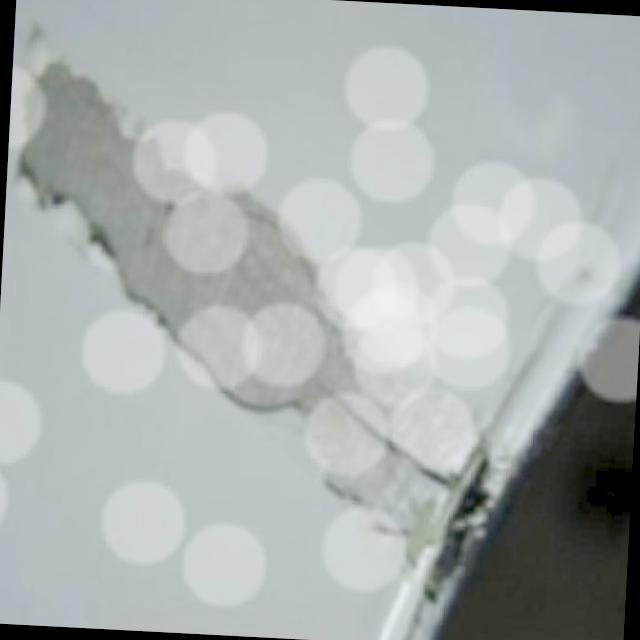crack: (318, 391, 398, 450), (403, 454, 454, 491)
